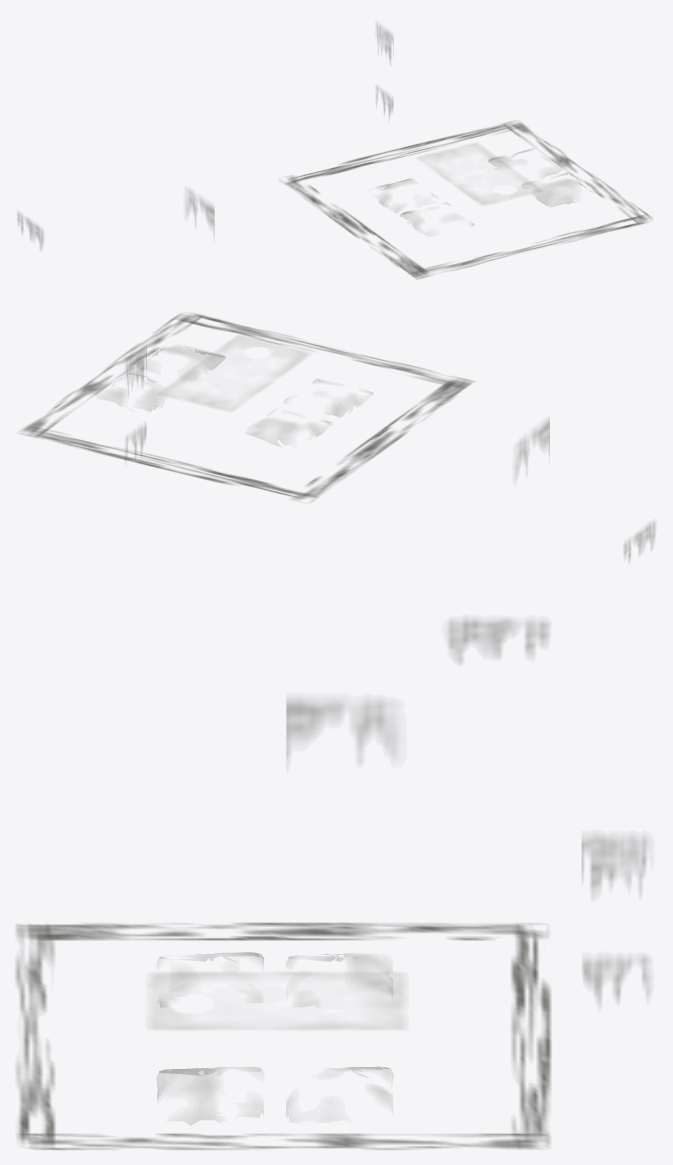
The model's file is weather.glb.
3 views of the same model, one above another, from view 1: azimuth 30°, elevation 25°; view 2: azimuth 150°, elevation 25°; view 3: azimuth 270°, elevation 25° (orthographic). The views are drawn at different scales.
Parts seen in each view (by area): view 1: Rain below sill 0; view 2: Rain below sill 0; view 3: Rain below sill 0.
Boxes of the visible parts, x1,y1,x2,y2 form: Rain below sill 0: (18,25,652,279); Rain below sill 0: (22,313,654,559); Rain below sill 0: (16,620,648,1149).
Size of the model in its own units: 7.33 by 1.58 by 4.24.
